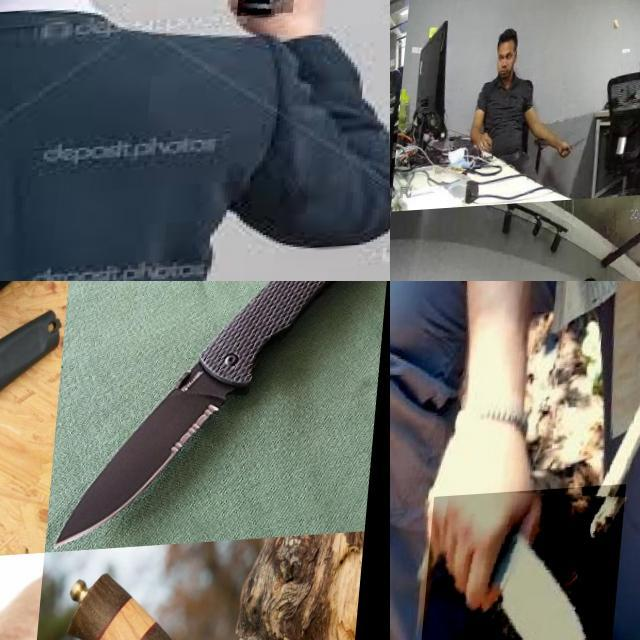-: (54, 359, 244, 553), (425, 490, 631, 640), (0, 375, 102, 565), (564, 138, 594, 166), (390, 158, 402, 180)
gun-knife-thesis - v11 Yolov5 augmented: (242, 0, 309, 78)
